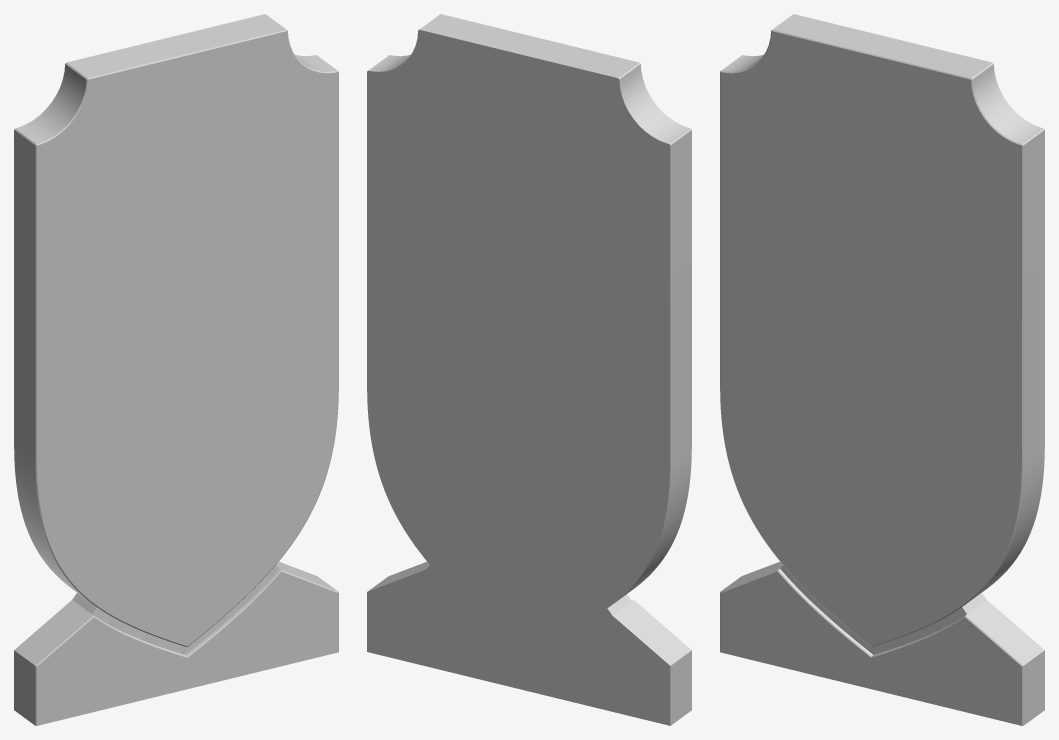
Rendered from cn29ff672c4e_tkf.glb.
3 renders of one model, left to right at view 1: azimuth 30°, elevation 25°; view 2: azimuth 150°, elevation 25°; view 3: azimuth 330°, elevation 25°, orthographic.
Visible parts, largest first — view 1: Pam-v-143-2, Pam-v-143-2_2_notexture; view 2: Pam-v-143-2; view 3: Pam-v-143-2, Pam-v-143-2_2_notexture.
Boxes of the visible parts, x1,y1,x2,y2 form: Pam-v-143-2: (14,14,338,725); Pam-v-143-2_2_notexture: (92,565,280,655); Pam-v-143-2: (367,14,691,725); Pam-v-143-2: (720,14,1044,725); Pam-v-143-2_2_notexture: (778,565,966,655).
Bounding box in the file's own units: 0.4 × 0.8 × 0.05.
1 material, 1 textured.
